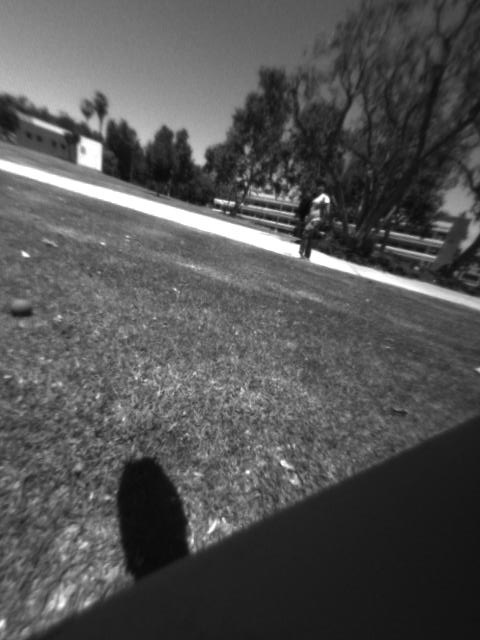dogtoy: (1, 292, 40, 321)
